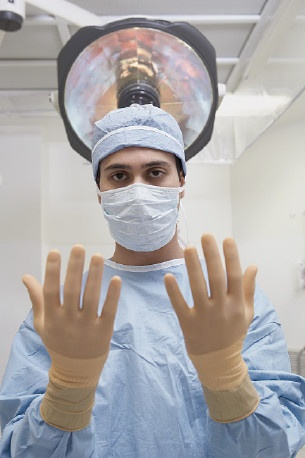Mask: (95, 160, 186, 251)
